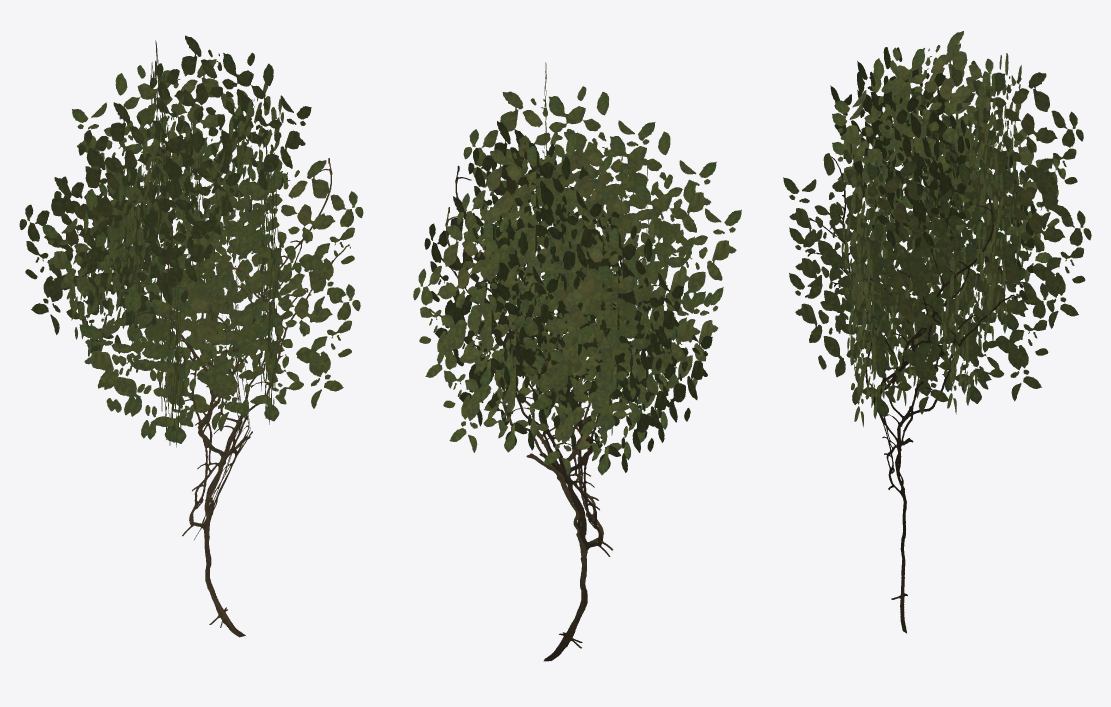
The model's file is SM_Lounge_Foliage_06.fbx.
The picture shows the model from 3 angles, left to right: view 1: azimuth 30°, elevation 25°; view 2: azimuth 150°, elevation 25°; view 3: azimuth 270°, elevation 25°; orthographic projection. The views are drawn at different scales.
Visible parts, largest first — view 1: SM_Lounge_Foliage_06; view 2: SM_Lounge_Foliage_06; view 3: SM_Lounge_Foliage_06.
Part boxes in pixels (<box>): SM_Lounge_Foliage_06: <box>19,35,363,637</box>; SM_Lounge_Foliage_06: <box>413,62,741,661</box>; SM_Lounge_Foliage_06: <box>783,31,1091,633</box>.
Bounding box in the file's own units: 53.66 × 103 × 50.21.
1 material, 1 textured.
